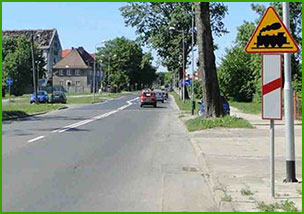a10: (250, 21, 295, 50)
